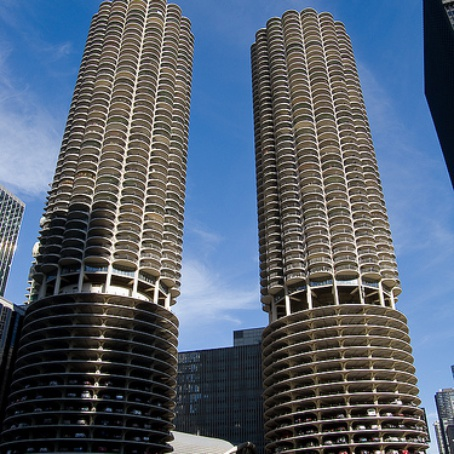building: (250, 3, 432, 454), (48, 1, 195, 451), (172, 323, 266, 444), (1, 198, 30, 286)
sky: (349, 6, 454, 367), (186, 1, 270, 326), (2, 1, 95, 235)
